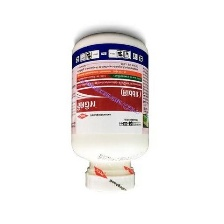insecticide: (66, 30, 150, 194)
